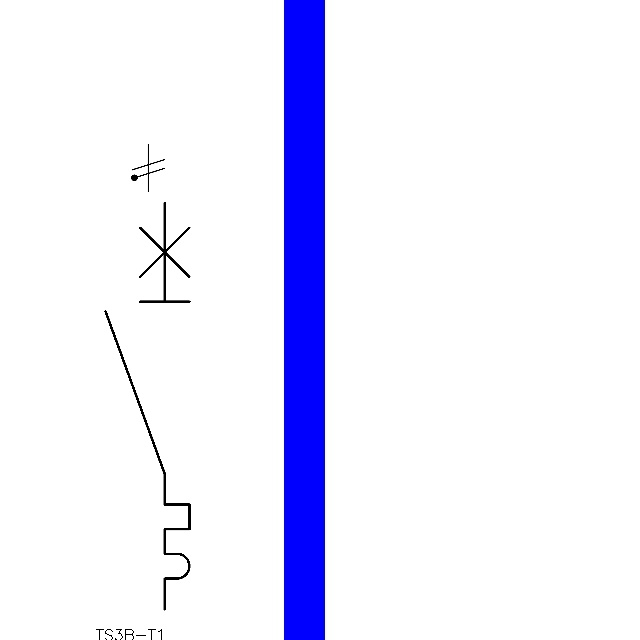interruptor_termomagnetico: (95, 192, 200, 620)
